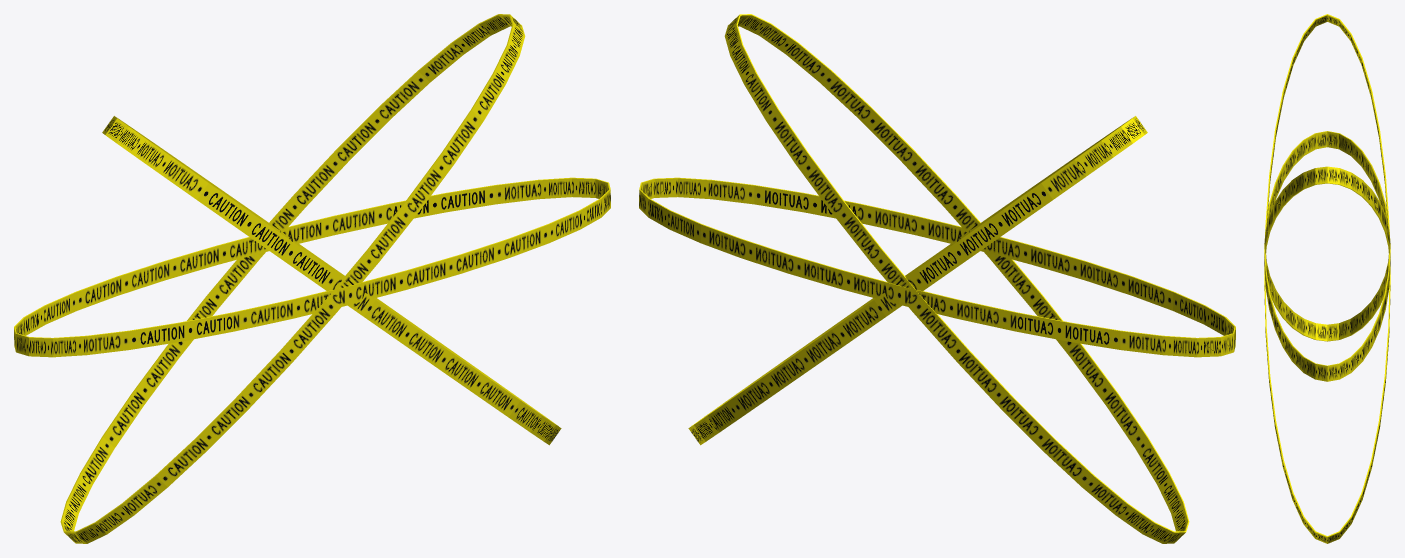
The model's file is cinta caution.fbx.
3 renders of one model, left to right at view 1: azimuth 30°, elevation 25°; view 2: azimuth 150°, elevation 25°; view 3: azimuth 270°, elevation 25°, orthographic. The views are drawn at different scales.
Parts seen in each view (by area): view 1: Cylinder.002; view 2: Cylinder.002; view 3: Cylinder.002.
Boxes of the visible parts, bbox=[...] form: Cylinder.002: bbox=[14, 14, 610, 543]; Cylinder.002: bbox=[639, 14, 1235, 543]; Cylinder.002: bbox=[1264, 14, 1390, 543].
Bounding box in the file's own units: 480 × 338 × 107.
1 material, 1 textured.
